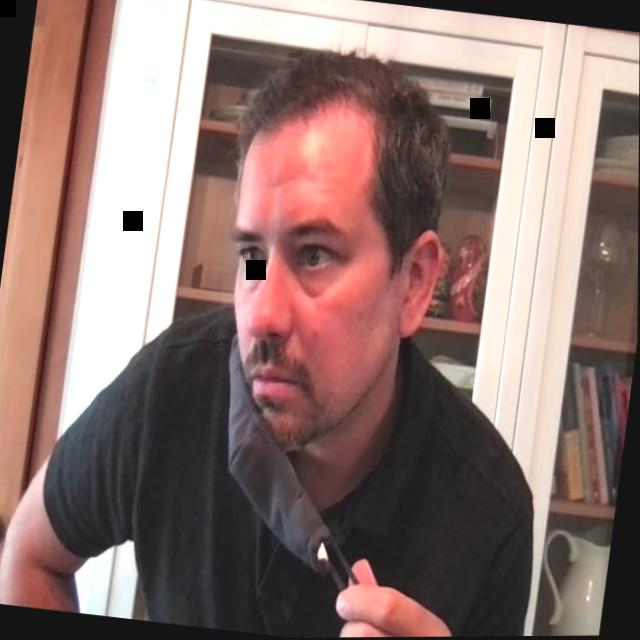NO-Mask: (197, 43, 470, 471)
